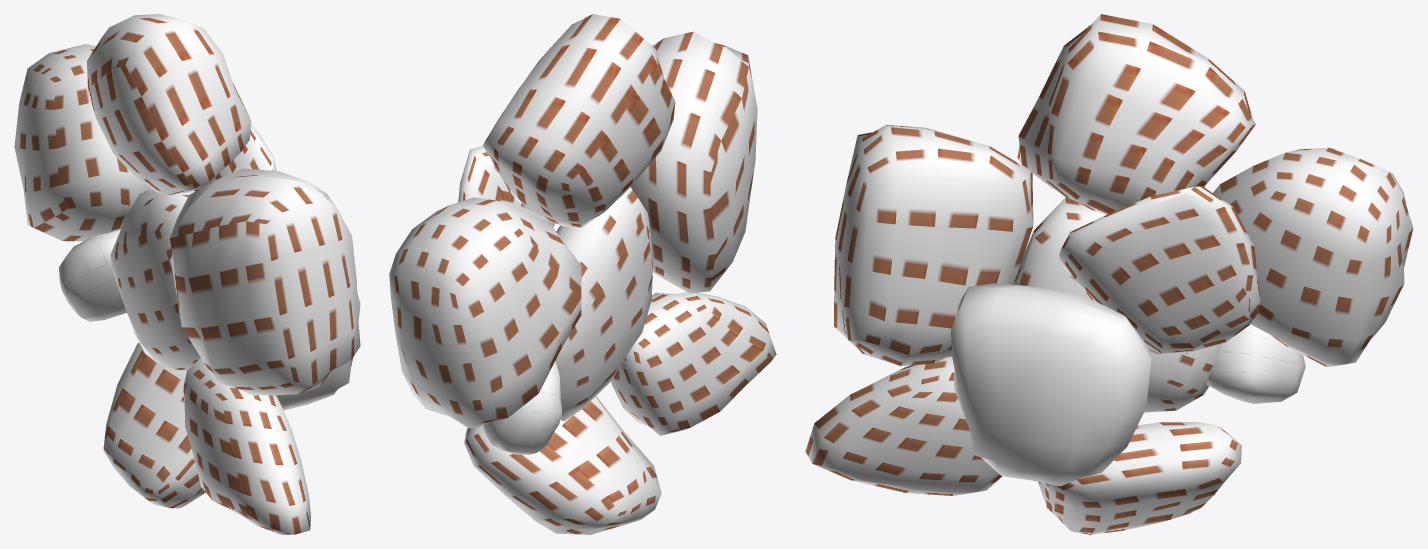
The model's file is stonesSmallModel.fbx.
3 views of the same model, side by side, from view 1: azimuth 30°, elevation 25°; view 2: azimuth 150°, elevation 25°; view 3: azimuth 270°, elevation 25° (orthographic). The views are drawn at different scales.
Parts seen in each view (by area): view 1: Cylinder_001; view 2: Cylinder_001; view 3: Cylinder_001.
Part boxes in pixels (x1,y1,x2,y2): Cylinder_001: (14, 14, 360, 534); Cylinder_001: (389, 14, 776, 534); Cylinder_001: (805, 14, 1413, 534).
Size of the model in its own units: 0.1465 by 0.3139 by 0.3371.
